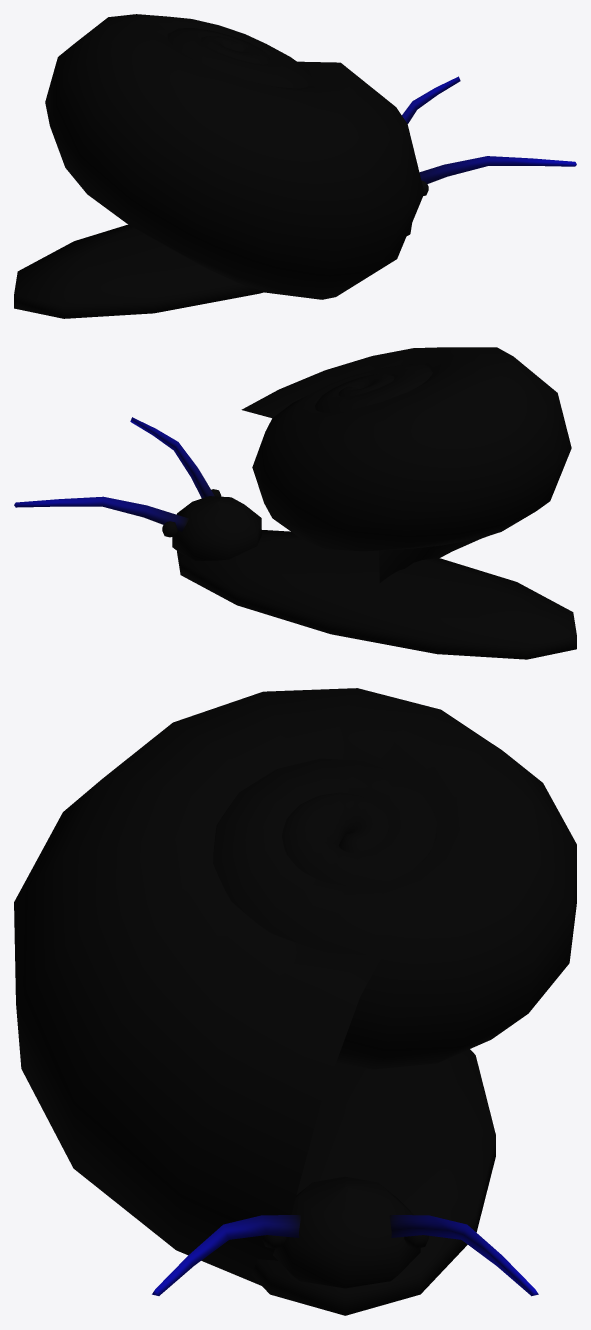
File: micro_snail.glb
3 renders of one model, top to bottom at view 1: azimuth 30°, elevation 25°; view 2: azimuth 150°, elevation 25°; view 3: azimuth 270°, elevation 25°, orthographic. The views are drawn at different scales.
Visible parts, largest first — view 1: Shell, Body, Antennae; view 2: Shell, Body, Antennae; view 3: Shell, Body, Antennae.
Boxes of the visible parts, x1,y1,x2,y2 form: Shell: (45,14,424,299); Body: (14,224,411,318); Antennae: (402,76,576,184); Shell: (241,347,571,582); Body: (172,496,576,659); Antennae: (14,417,214,531); Shell: (14,688,576,1285); Body: (251,1049,495,1315); Antennae: (152,1215,538,1296).
Bounding box in the file's own units: 1.2 × 0.634 × 0.7113.
2 materials, 1 textured.
